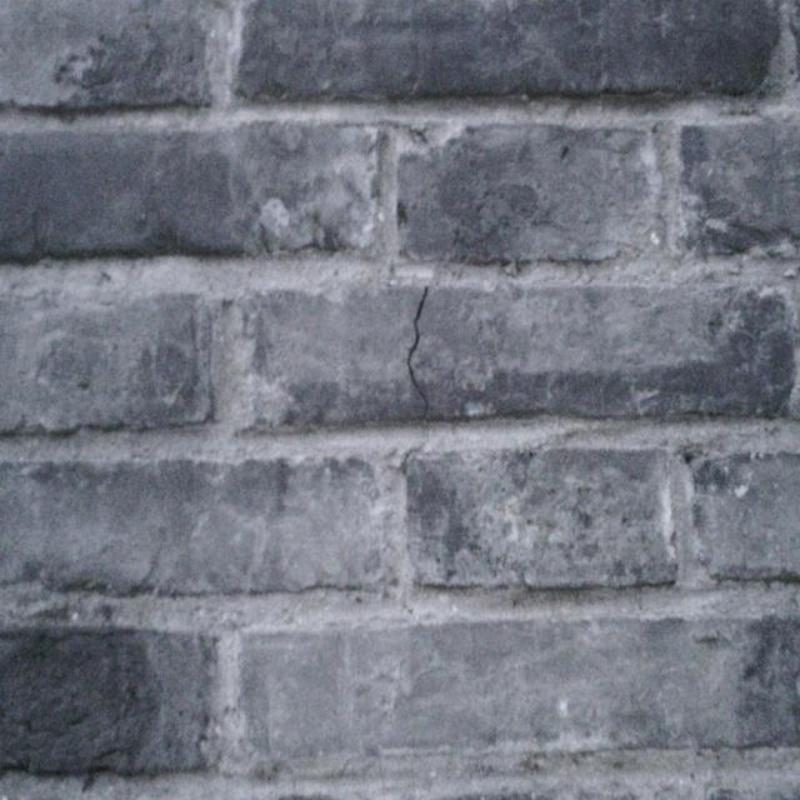pothole: (406, 285, 428, 414)
